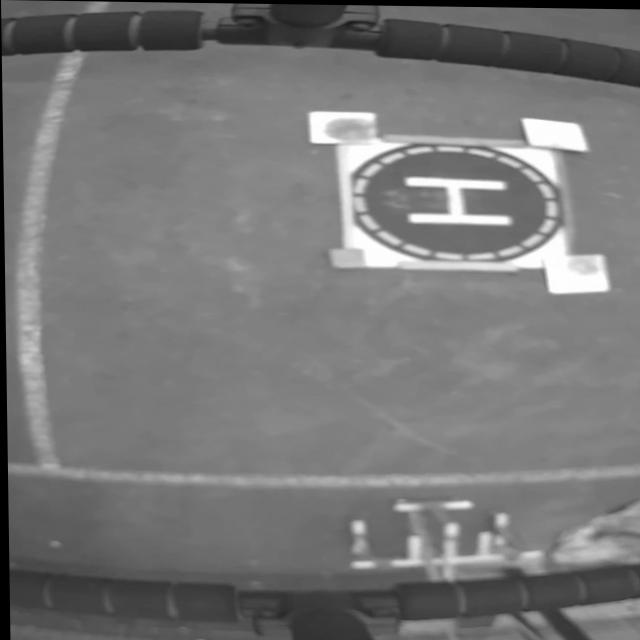Helipad: (403, 175, 510, 224)
